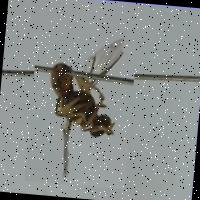Oriental-fruit-fly: (25, 31, 138, 190)
